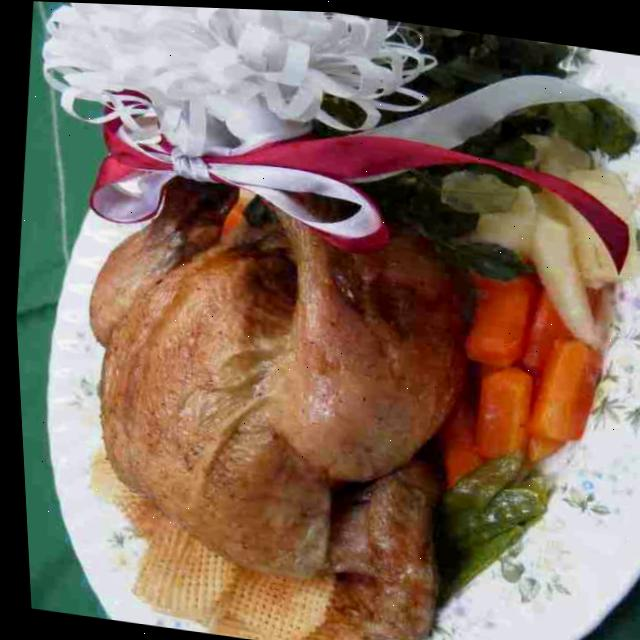鸡肉料理 含炸鸡: (41, 127, 497, 640)
